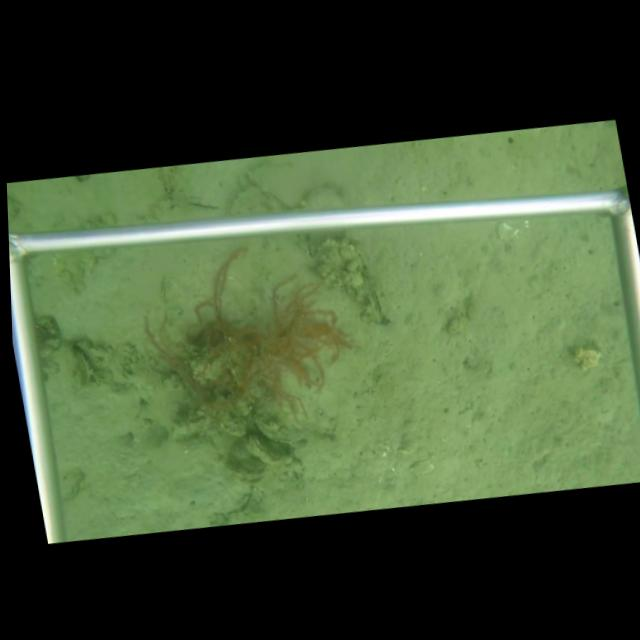Oyster-Closed: (365, 267, 386, 329), (248, 433, 289, 464)
Oyster-Indeterminate: (246, 160, 307, 207), (227, 186, 288, 216), (303, 187, 350, 211)
